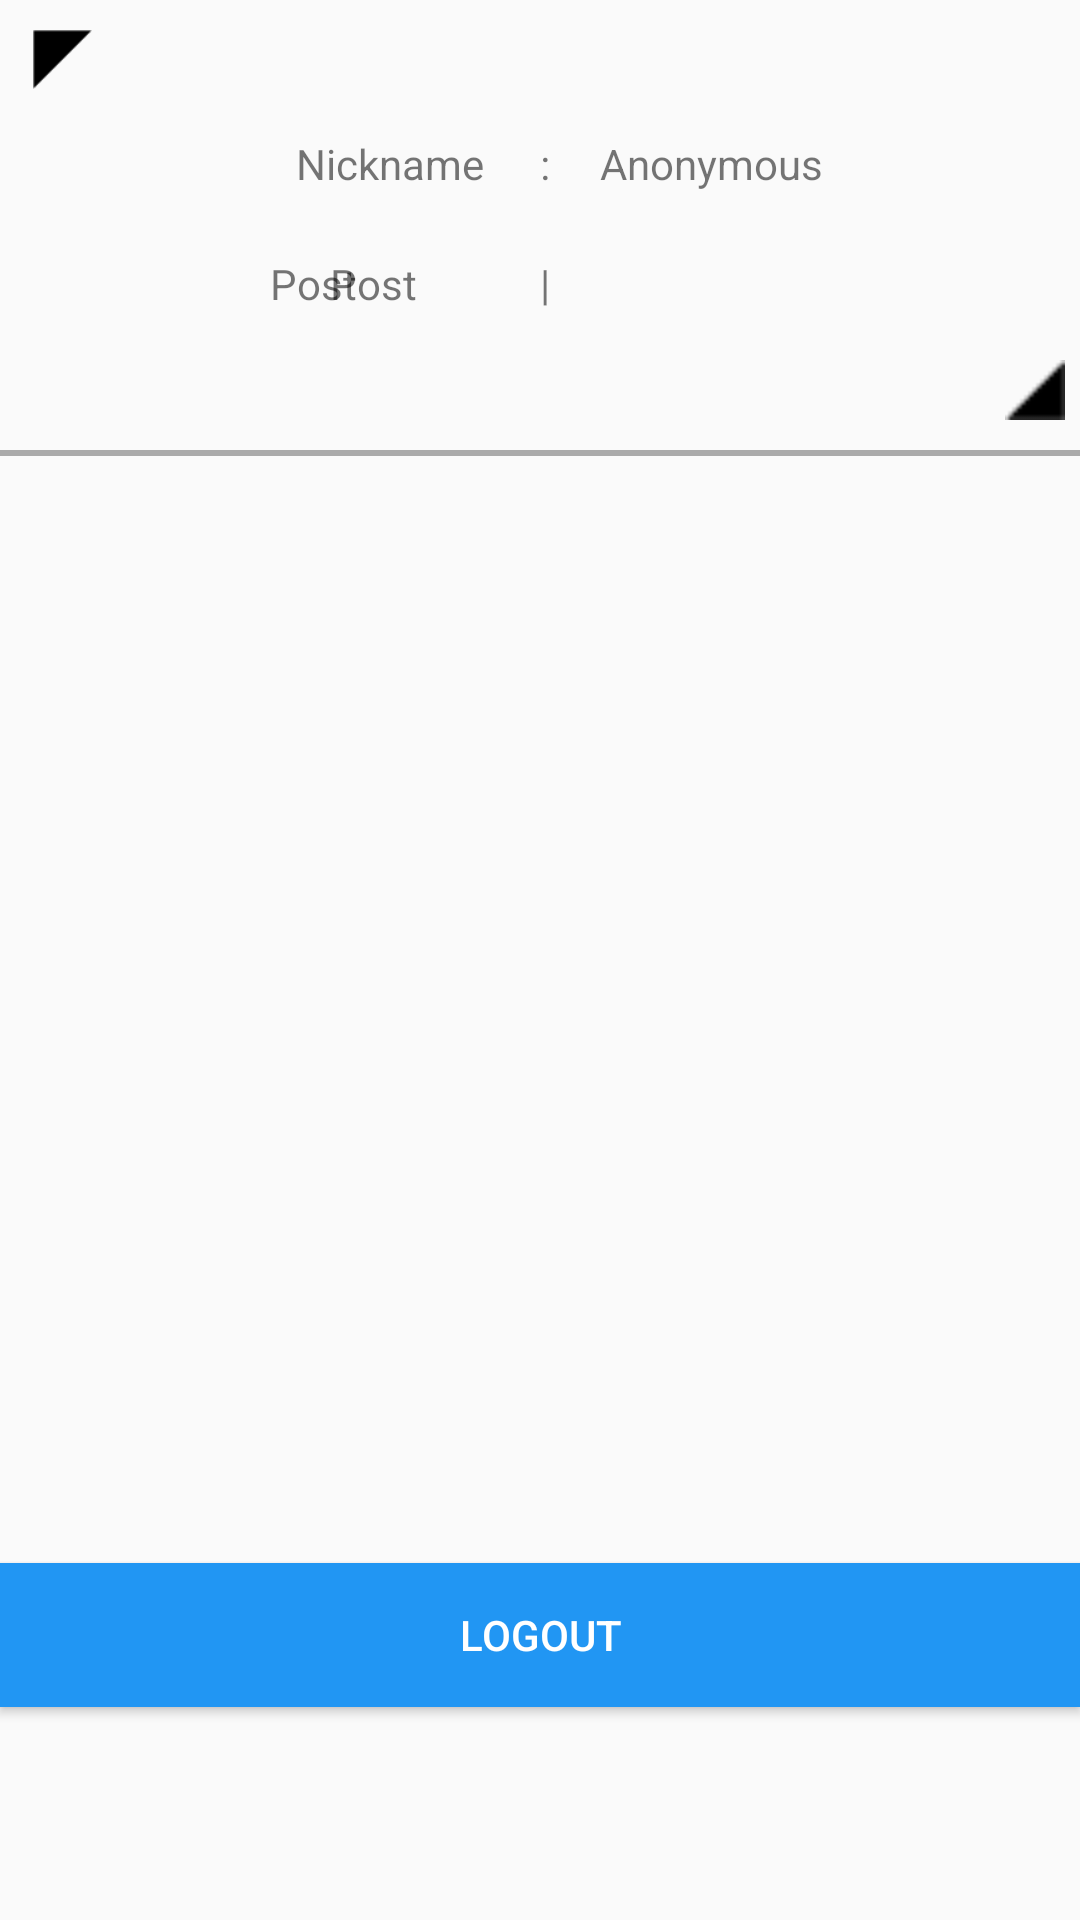

Where to tap for icons on this 1080w x 1920h app screen, as [x,y]:
right angle: [62,59], [1035,390]
